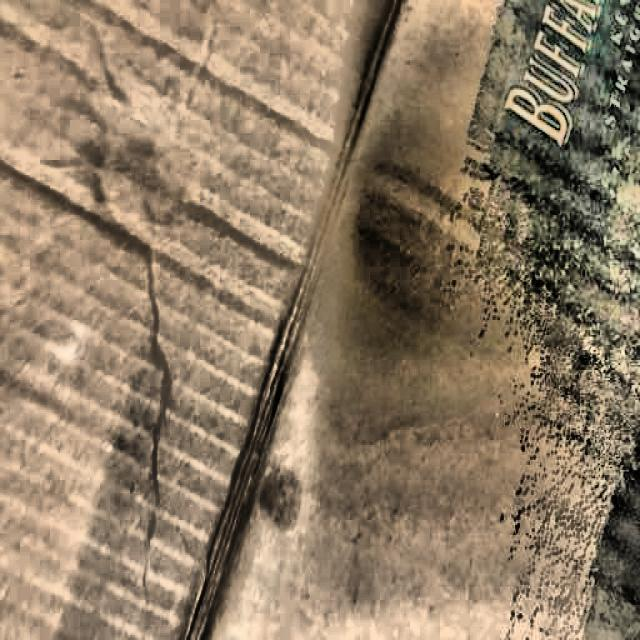cardboard: (0, 0, 631, 613)
